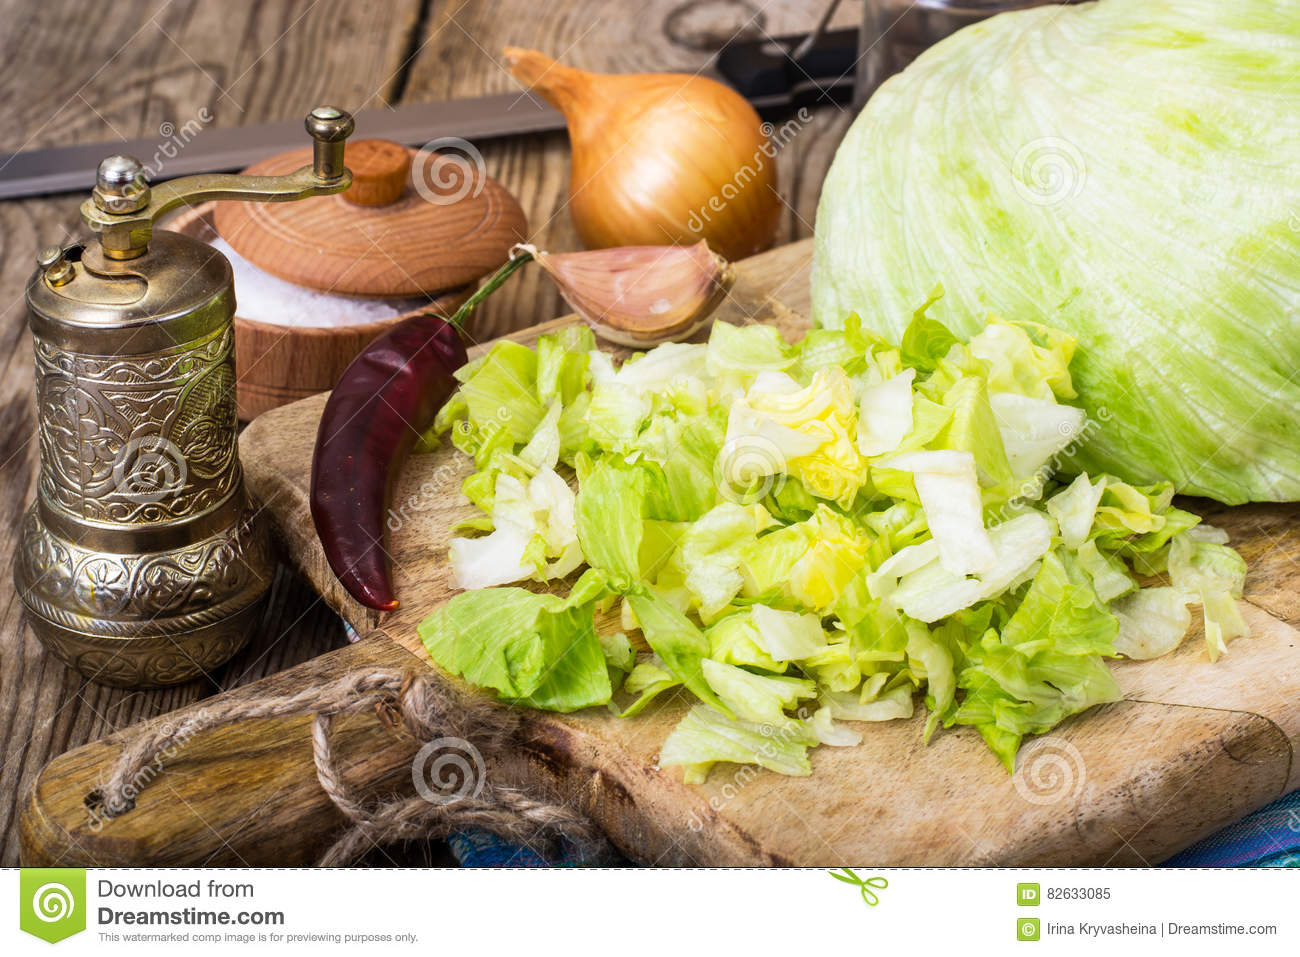chopped lettuce: (479, 351, 1184, 708), (847, 43, 1300, 465)
